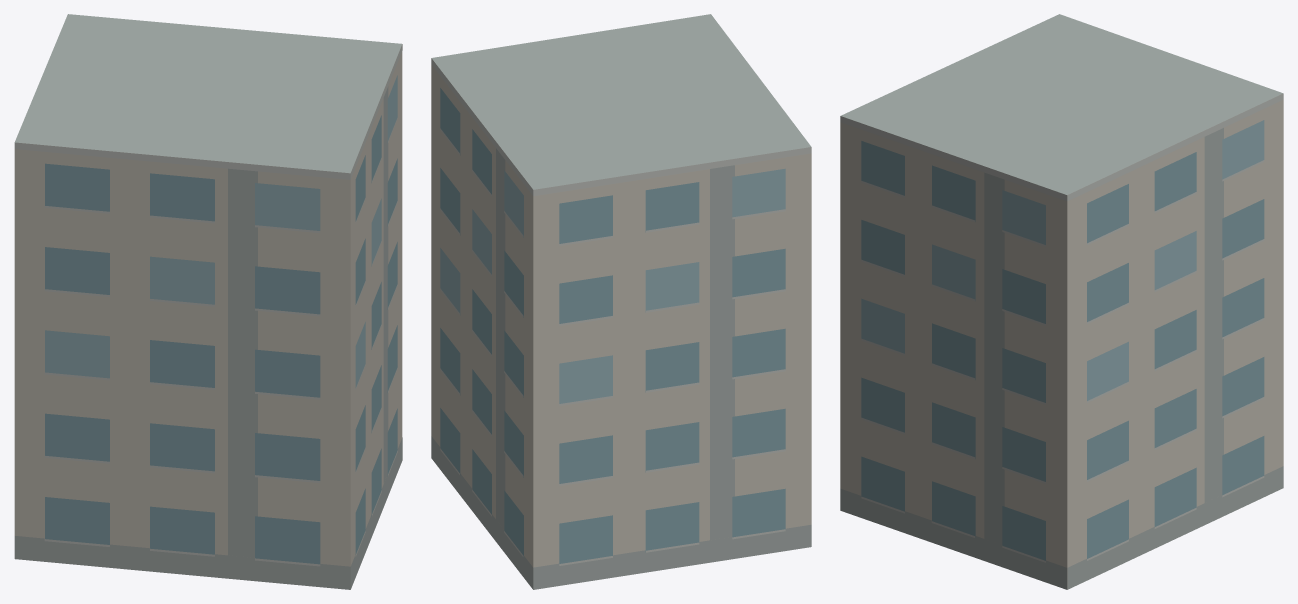
File: survey-upis-32887448.glb
The picture shows the model from 3 angles, left to right: view 1: azimuth 30°, elevation 25°; view 2: azimuth 150°, elevation 25°; view 3: azimuth 270°, elevation 25°; orthographic projection. The views are drawn at different scales.
Visible parts, largest first — view 1: survey-upis-32887448.tmp; view 2: survey-upis-32887448.tmp; view 3: survey-upis-32887448.tmp.
Part boxes in pixels (x1,y1,x2,y2): survey-upis-32887448.tmp: [14, 14, 402, 589]; survey-upis-32887448.tmp: [431, 14, 811, 589]; survey-upis-32887448.tmp: [840, 14, 1283, 589].
Bounding box in the file's own units: 15.02 × 15.25 × 15.53.
